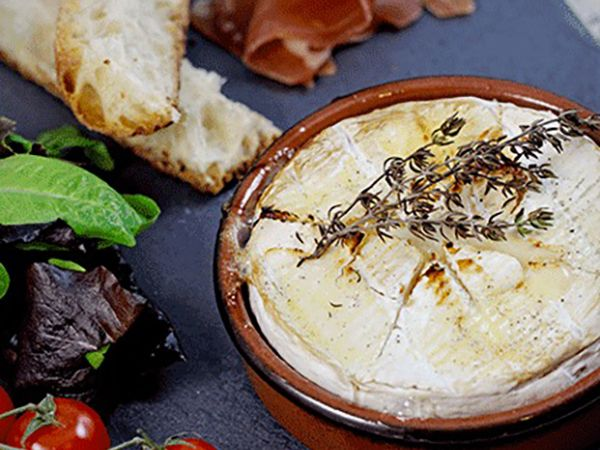camembert: (237, 91, 600, 427)
